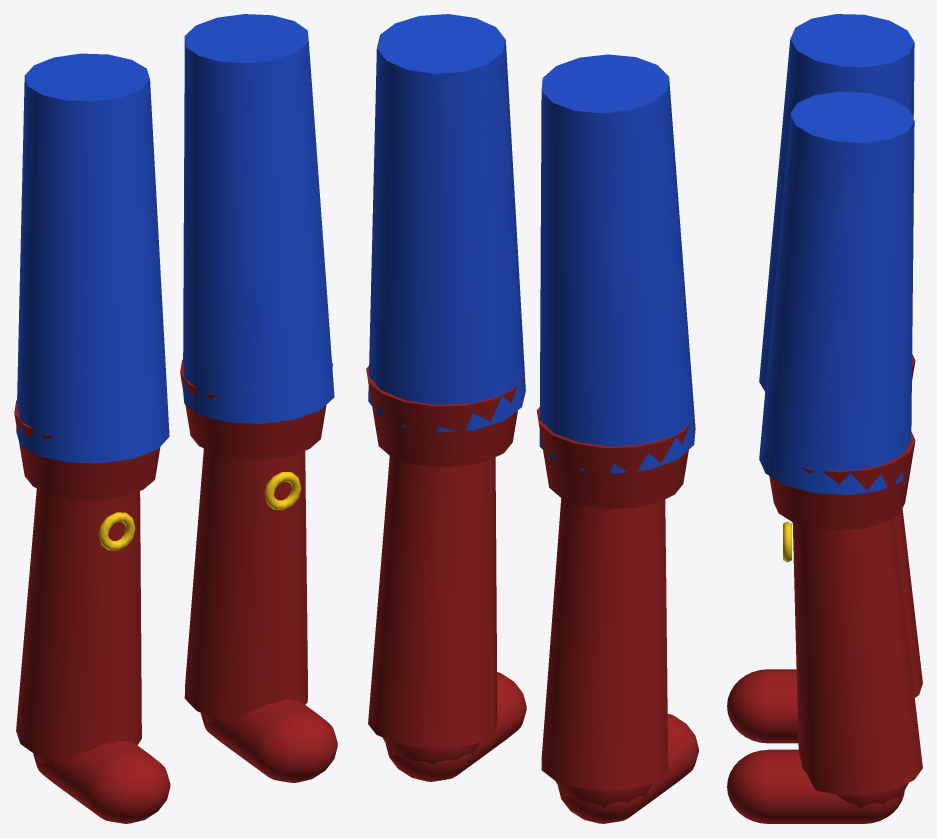
File: cuffed_boots.glb
The picture shows the model from 3 angles, left to right: view 1: azimuth 30°, elevation 25°; view 2: azimuth 150°, elevation 25°; view 3: azimuth 270°, elevation 25°; orthographic projection. The views are drawn at different scales.
Visible parts, largest first — view 1: trouser_r, trouser_l, boot_shaft_r, boot_shaft_l, boot_foot_r, boot_foot_l, boot_cuff_r, boot_cuff_l, cuff_buckle_r, cuff_buckle_l; view 2: trouser_l, trouser_r, boot_shaft_l, boot_shaft_r, boot_cuff_r, boot_cuff_l, boot_foot_r, boot_foot_l, boot_shaft_r_joint, boot_shaft_l_joint; view 3: trouser_l, boot_shaft_l, trouser_r, boot_foot_l, boot_cuff_l, boot_foot_r, boot_shaft_r, boot_shaft_l_joint.
Part boxes in pixels (left/top/right/bottom): trouser_r: left=16, top=53, right=169, bottom=463; trouser_l: left=183, top=14, right=334, bottom=423; boot_shaft_r: left=16, top=488, right=141, bottom=762; boot_shaft_l: left=184, top=448, right=307, bottom=722; boot_foot_r: left=33, top=740, right=170, bottom=823; boot_foot_l: left=200, top=699, right=337, bottom=782; boot_cuff_r: left=14, top=400, right=160, bottom=500; boot_cuff_l: left=180, top=359, right=332, bottom=459; cuff_buckle_r: left=98, top=512, right=135, bottom=550; cuff_buckle_l: left=264, top=472, right=300, bottom=509; trouser_l: left=368, top=14, right=525, bottom=432; trouser_r: left=539, top=54, right=695, bottom=473; boot_shaft_l: left=368, top=456, right=497, bottom=748; boot_shaft_r: left=541, top=498, right=668, bottom=790; boot_cuff_r: left=536, top=407, right=693, bottom=508; boot_cuff_l: left=366, top=366, right=523, bottom=467; boot_foot_r: left=558, top=714, right=698, bottom=823; boot_foot_l: left=385, top=672, right=526, bottom=781; boot_shaft_r_joint: left=555, top=780, right=651, bottom=806; boot_shaft_l_joint: left=383, top=738, right=479, bottom=764; trouser_l: left=759, top=91, right=914, bottom=495; boot_shaft_l: left=792, top=517, right=922, bottom=795; trouser_r: left=759, top=14, right=914, bottom=391; boot_foot_l: left=727, top=749, right=904, bottom=823; boot_cuff_l: left=769, top=432, right=915, bottom=530; boot_foot_r: left=727, top=669, right=798, bottom=743; boot_shaft_r: left=894, top=508, right=922, bottom=697; boot_shaft_l_joint: left=836, top=783, right=908, bottom=807.
Size of the model in its own units: 0.3944 by 0.8955 by 0.2266.
